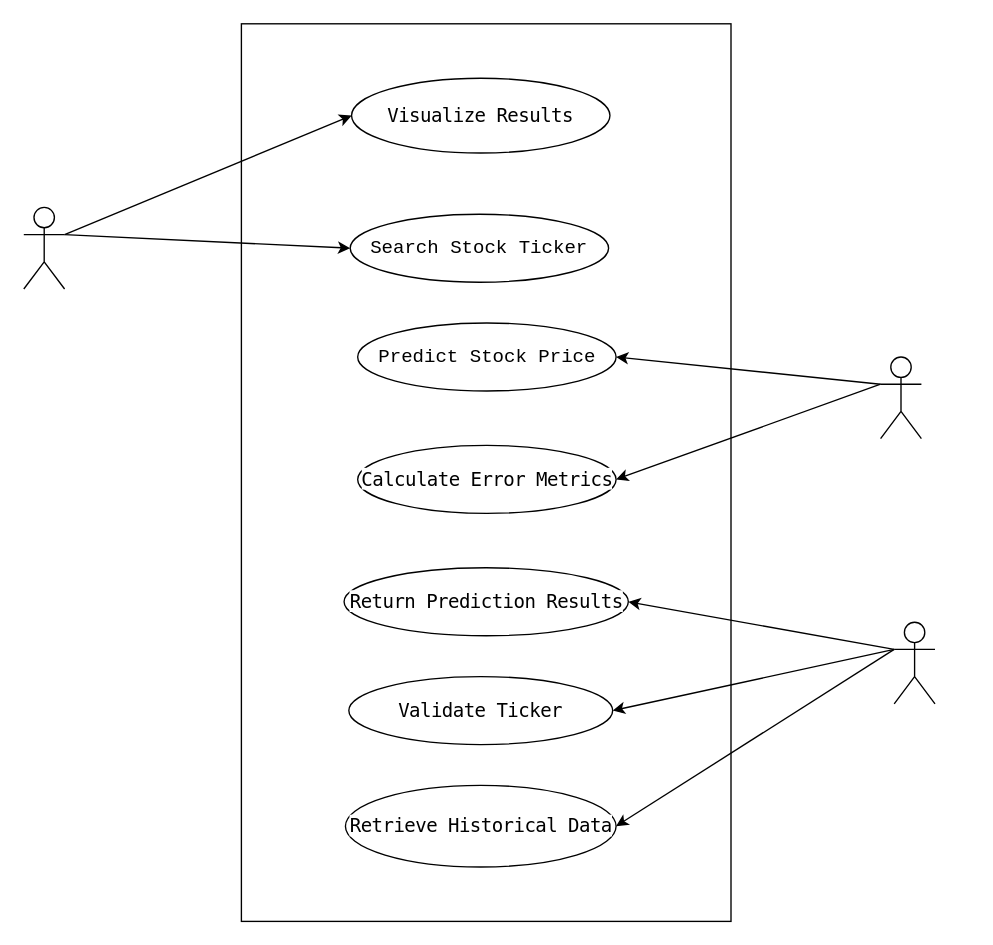
This 993x945 diagram has some shape labels left out. Each missing label, with the centre of its shape:
FastAPI Server: point (914, 662)
LSTM Model: point (900, 397)
User: point (43, 247)
